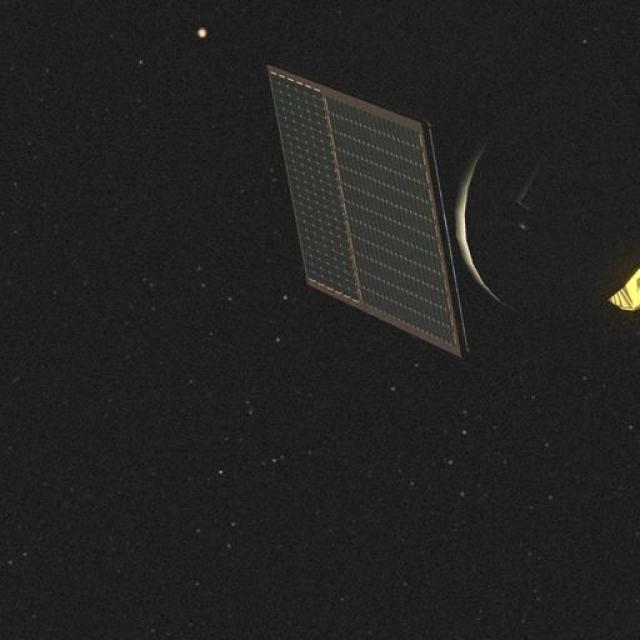debris: (254, 58, 640, 336)
